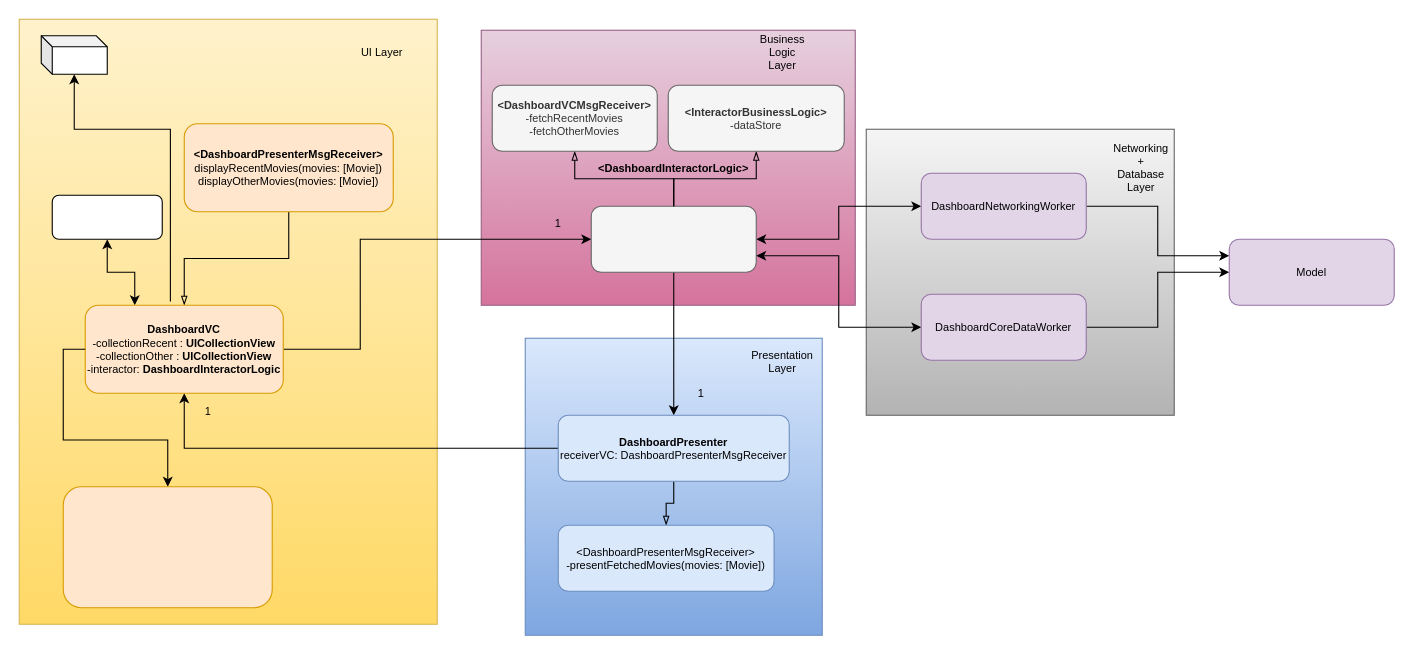
Image size: 1414x655. Some labels were removed from this diagram. Here are the shapes that lost their labels. From the top down, the centre of each, then its label:
[73,54]: UIKit
[106,216]: <Router>
[673,238]: DashboardInteractor
[167,547]: extension DashboardVC : UiCollectionViewDataSource, UiCollectionViewDelegate
